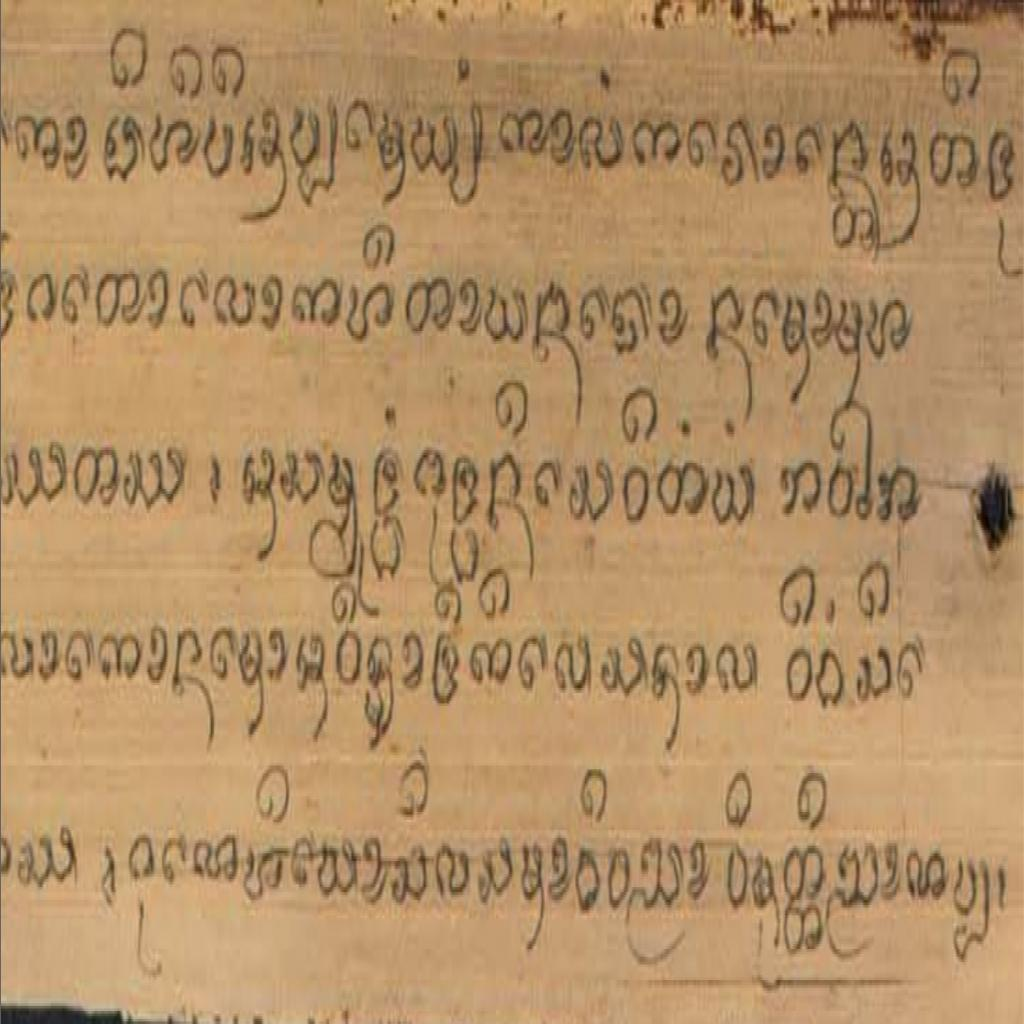LN017: (905, 845, 950, 909)
